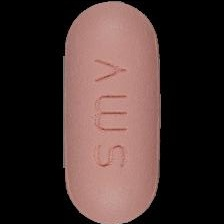42254-168: (0, 0, 224, 224)
